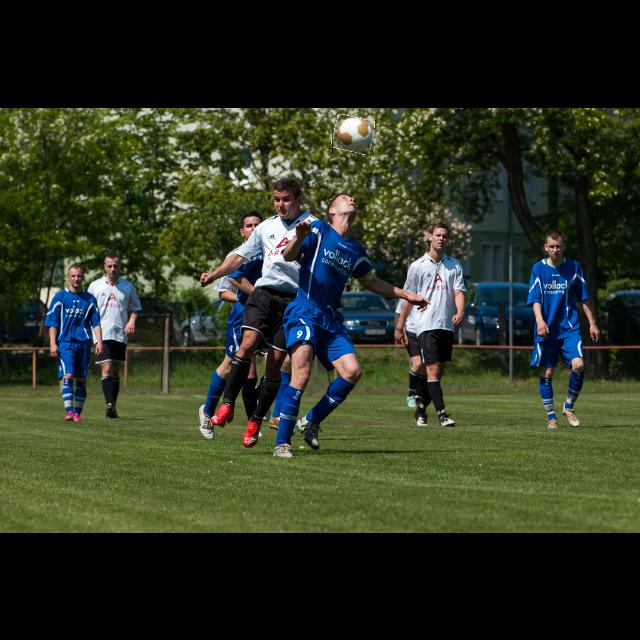Football: (332, 116, 374, 154)
